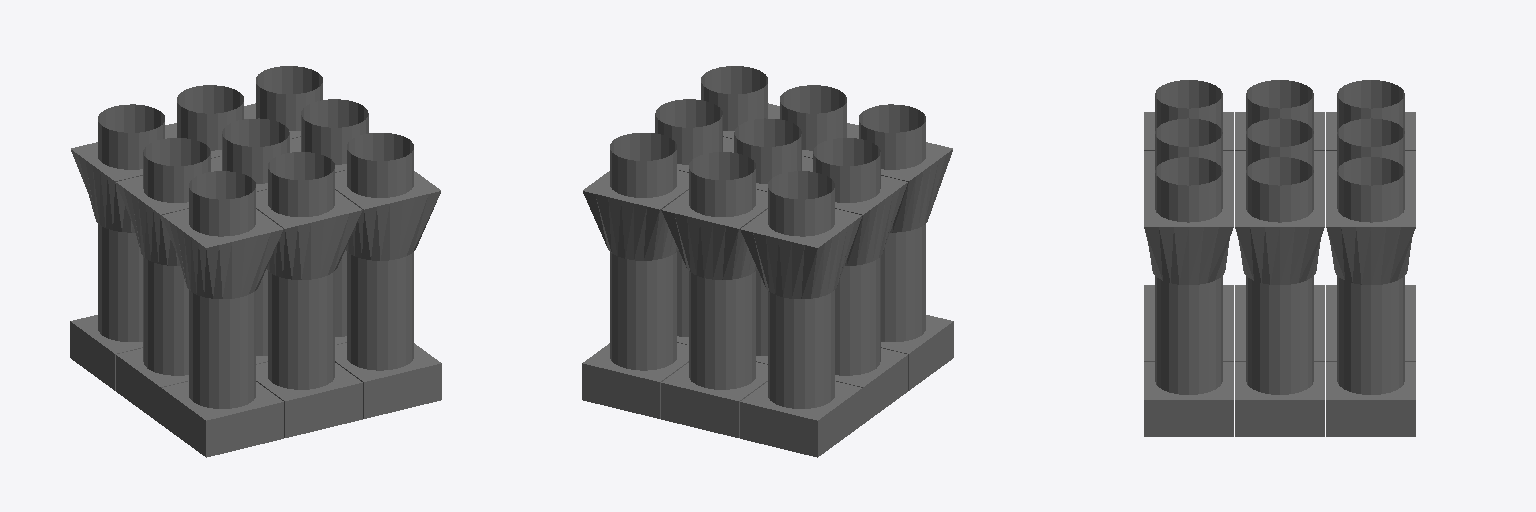
Rendered from support_steel.obj.
3 renders of one model, left to right at view 1: azimuth 30°, elevation 25°; view 2: azimuth 150°, elevation 25°; view 3: azimuth 270°, elevation 25°, orthographic.
Visible parts, largest first — view 1: Steel Parts Supports south_west, Steel Parts Supports south_east, Steel Parts Supports south, Steel Parts Supports west, Steel Parts Supports south_west_top, Steel Parts Supports south_top, Steel Parts Supports north_west, Steel Parts Supports south_east_top, Steel Parts Supports south_west_base, Steel Parts Supports north_west_top, Steel Parts Supports west_top, Steel Parts Supports south_east_base (+9 smaller); view 2: Steel Parts Supports north_east_top, Steel Parts Supports north_west, Steel Parts Supports north_west_top, Steel Parts Supports north, Steel Parts Supports south_west, Steel Parts Supports north_top, Steel Parts Supports west, Steel Parts Supports north_east, north_west_base Steel Parts Supports, Steel Parts Supports east, Steel Parts Supports north_east_base, Steel Parts Supports north_base (+7 smaller); view 3: Steel Parts Supports south_east_top, Steel Parts Supports east_top, Steel Parts Supports north_east_top, Steel Parts Supports north_east, Steel Parts Supports east, Steel Parts Supports east_base, Steel Parts Supports north_east_base, Steel Parts Supports south_east_base, Steel Parts Supports south_east, Steel Parts Supports north_west, Steel Parts Supports west, Steel Parts Supports south_west (+15 smaller).
Boxes of the visible parts, <box> form: Steel Parts Supports south_west: <box>189,171,255,408</box>; Steel Parts Supports south_east: <box>347,133,413,370</box>; Steel Parts Supports south: <box>268,152,334,389</box>; Steel Parts Supports west: <box>143,138,210,375</box>; Steel Parts Supports south_west_top: <box>161,209,283,406</box>; Steel Parts Supports south_top: <box>256,189,362,387</box>; Steel Parts Supports north_west: <box>98,104,164,341</box>; Steel Parts Supports south_east_top: <box>335,170,440,365</box>; Steel Parts Supports south_west_base: <box>161,381,283,457</box>; Steel Parts Supports north_west_top: <box>71,142,142,341</box>; Steel Parts Supports west_top: <box>116,176,188,375</box>; Steel Parts Supports south_east_base: <box>335,343,441,418</box>; Steel Parts Supports north_east_top: <box>583,170,688,370</box>; Steel Parts Supports north_west: <box>768,171,834,408</box>; Steel Parts Supports north_west_top: <box>740,209,862,408</box>; Steel Parts Supports north: <box>689,152,755,389</box>; Steel Parts Supports south_west: <box>859,104,925,341</box>; Steel Parts Supports north_top: <box>661,189,767,389</box>; Steel Parts Supports west: <box>813,138,880,375</box>; Steel Parts Supports north_east: <box>610,133,676,370</box>; north_west_base Steel Parts Supports: <box>740,381,862,457</box>; Steel Parts Supports east: <box>655,99,722,336</box>; Steel Parts Supports north_east_base: <box>582,343,688,418</box>; Steel Parts Supports north_base: <box>661,362,767,437</box>; Steel Parts Supports south_east_top: <box>1144,189,1233,394</box>; Steel Parts Supports east_top: <box>1235,189,1324,394</box>; Steel Parts Supports north_east_top: <box>1326,189,1415,394</box>; Steel Parts Supports north_east: <box>1337,157,1404,394</box>; Steel Parts Supports east: <box>1246,157,1313,389</box>; Steel Parts Supports east_base: <box>1235,362,1324,436</box>; Steel Parts Supports north_east_base: <box>1326,362,1415,436</box>; Steel Parts Supports south_east_base: <box>1144,362,1233,436</box>; Steel Parts Supports south_east: <box>1155,157,1222,381</box>; Steel Parts Supports north_west: <box>1337,80,1404,131</box>; Steel Parts Supports west: <box>1246,80,1313,130</box>; Steel Parts Supports south_west: <box>1155,80,1222,131</box>.
Size of the model in its own units: 1 by 1 by 1.